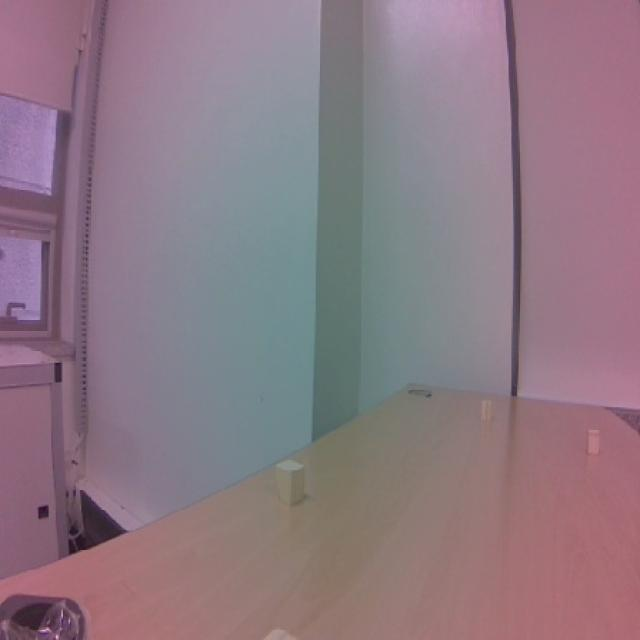obstacle: (268, 454, 312, 511)
